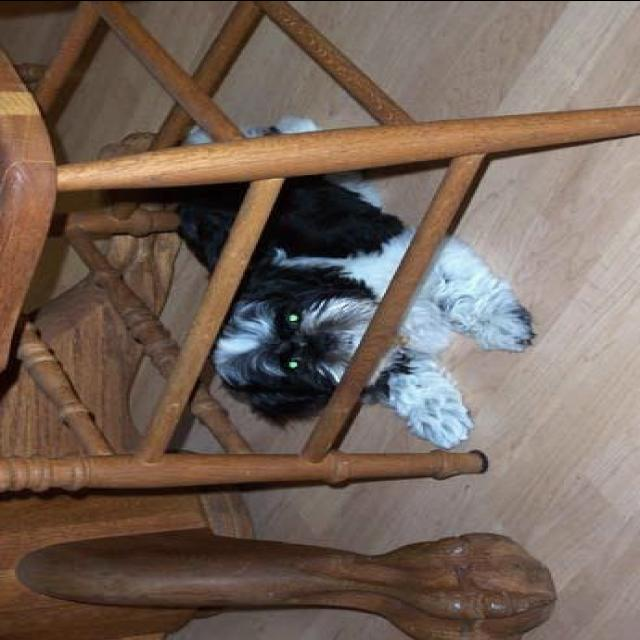shih_tzu: (186, 118, 540, 450)
